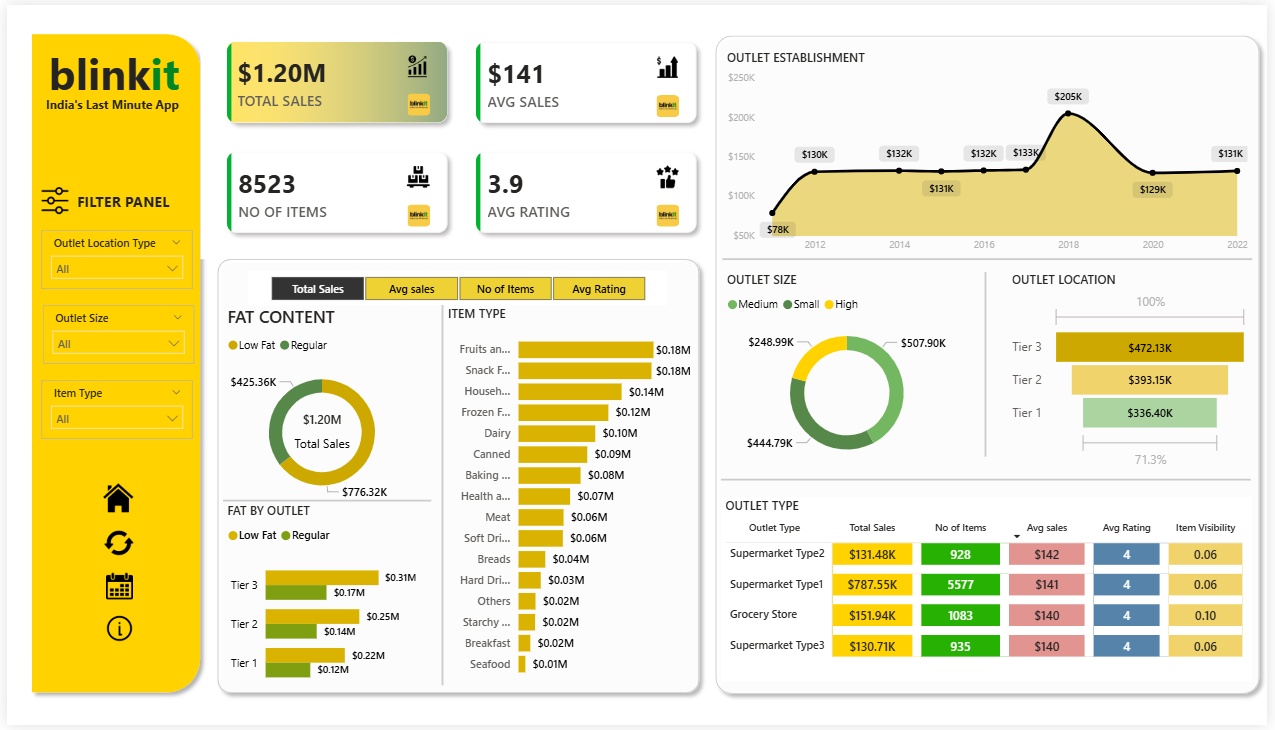

The dashboard page shown, as its layout file describes it:
{"tool":"powerbi","page":{"name":"Page 1","canvas":[1400,800],"ordinal":0},"visuals":[{"type":"shape","box":[17.5,23.9,205.3,749.6],"z":0},{"type":"textbox","box":[31.8,37.1,175,88.4],"z":1000},{"type":"textbox","box":[38.9,95.4,167.9,30],"z":2000},{"type":"cardVisual","fields":{"Data":["BlinkIT Grocery Data.Total Sales","BlinkIT Grocery Data.Avg sales","BlinkIT Grocery Data.No of Items","BlinkIT Grocery Data.Avg Rating"]},"box":[215.6,12.4,580,270.4],"z":3000},{"type":"shape","box":[224.5,273.9,553.2,500.2],"z":4000},{"type":"donutChart","title":"FAT CONTENT","fields":{"Y":["BlinkIT Grocery Data.Total Sales"],"Category":["BlinkIT Grocery Data.Item Fat Content"]},"box":[240.4,334,219.2,229.8],"z":5000},{"type":"slicer","fields":{"Values":["Metrics.Metrics"]},"box":[268.6,295.1,464.8,38.9],"z":6000},{"type":"clusteredBarChart","title":"FAT BY OUTLET","fields":{"Y":["BlinkIT Grocery Data.Total Sales"],"Category":["BlinkIT Grocery Data.Outlet Location Type"],"Series":["BlinkIT Grocery Data.Item Fat Content"]},"box":[240.4,551.4,219.2,219.2],"z":7000},{"type":"shape","box":[240.4,539,231.5,24.7],"z":8000},{"type":"shape","box":[459.5,334,47.7,422.4],"z":9000},{"type":"barChart","title":"ITEM TYPE","fields":{"Y":["BlinkIT Grocery Data.Total Sales"],"Category":["BlinkIT Grocery Data.Item Type"]},"box":[484.3,334,279.2,422.4],"z":10000},{"type":"shape","box":[777.6,24.7,622.1,749.4],"z":11000},{"type":"lineChart","title":"OUTLET ESTABLISHMENT","fields":{"Category":["BlinkIT Grocery Data.Outlet Establishment Year"],"Y":["BlinkIT Grocery Data.Total Sales"]},"box":[795.3,47.7,588.5,235.1],"z":12000},{"type":"shape","box":[793.5,514.3,588.5,24.7],"z":13000},{"type":"donutChart","title":"OUTLET SIZE","fields":{"Y":["BlinkIT Grocery Data.Total Sales"],"Category":["BlinkIT Grocery Data.Outlet Size"]},"box":[795.3,295.1,275.7,225],"z":14000},{"type":"shape","box":[1063.9,296.9,47.7,205],"z":15000},{"type":"funnel","title":"OUTLET LOCATION","fields":{"Y":["BlinkIT Grocery Data.Total Sales"],"Category":["BlinkIT Grocery Data.Outlet Location Type"]},"box":[1111.7,295.1,272.2,224.5],"z":16000},{"type":"shape","box":[795.3,270.4,588.5,24.7],"z":17000},{"type":"pivotTable","title":"OUTLET TYPE","fields":{"Rows":["BlinkIT Grocery Data.Outlet Type"],"Values":["BlinkIT Grocery Data.Total Sales","BlinkIT Grocery Data.No of Items","BlinkIT Grocery Data.Avg sales","BlinkIT Grocery Data.Avg Rating","Avg(BlinkIT Grocery Data.Item Visibility)"]},"box":[793.5,546.1,590.3,205],"z":18000},{"type":"slicer","fields":{"Values":["BlinkIT Grocery Data.Outlet Location Type"]},"box":[38.9,249.2,167.9,65.4],"z":19000},{"type":"slicer","fields":{"Values":["BlinkIT Grocery Data.Outlet Size"]},"box":[40.6,334,167.9,65.4],"z":20000},{"type":"slicer","fields":{"Values":["BlinkIT Grocery Data.Item Type"]},"box":[38.9,417.1,167.9,65.4],"z":21000},{"type":"card","fields":{"Values":["BlinkIT Grocery Data.Total Sales"]},"box":[307.5,441.8,83.1,60.1],"z":22000},{"type":"image","box":[104.3,532,37.1,31.8],"z":23000},{"type":"image","box":[107.8,577.9,31.8,38.9],"z":24000},{"type":"image","box":[109.6,629.2,30,31.8],"z":25000},{"type":"image","box":[107.8,673.4,33.6,38.9],"z":26000},{"type":"textbox","box":[68.9,201.5,121.9,31.8],"z":26001},{"type":"image","box":[38.9,201.5,30,31.8],"z":26002},{"type":"image","box":[443.6,99,28.3,24.7],"z":26003},{"type":"image","box":[443.6,220.9,28.3,24.7],"z":26004},{"type":"image","box":[719.3,220.9,28.3,24.7],"z":26005},{"type":"image","box":[719.3,100.7,28.3,24.7],"z":26006}]}

Visuals, with their boxes in screenshot pixels (x1, y1, x2, y2), scaled from the page's 1400x800 canvas onto the 1275x730 screenshot:
shape: [x1=16, y1=22, x2=203, y2=706]
textbox: [x1=29, y1=34, x2=188, y2=115]
textbox: [x1=35, y1=87, x2=188, y2=114]
cardVisual - BlinkIT Grocery Data.Total Sales x BlinkIT Grocery Data.Avg sales: [x1=196, y1=11, x2=725, y2=258]
shape: [x1=204, y1=250, x2=708, y2=706]
"FAT CONTENT" donutChart: [x1=219, y1=305, x2=419, y2=514]
slicer - Metrics.Metrics: [x1=245, y1=269, x2=668, y2=305]
"FAT BY OUTLET" clusteredBarChart: [x1=219, y1=503, x2=419, y2=703]
shape: [x1=219, y1=492, x2=430, y2=514]
shape: [x1=418, y1=305, x2=462, y2=690]
"ITEM TYPE" barChart: [x1=441, y1=305, x2=695, y2=690]
shape: [x1=708, y1=23, x2=1274, y2=706]
"OUTLET ESTABLISHMENT" lineChart: [x1=724, y1=44, x2=1260, y2=258]
shape: [x1=723, y1=469, x2=1259, y2=492]
"OUTLET SIZE" donutChart: [x1=724, y1=269, x2=975, y2=475]
shape: [x1=969, y1=271, x2=1012, y2=458]
"OUTLET LOCATION" funnel: [x1=1012, y1=269, x2=1260, y2=474]
shape: [x1=724, y1=247, x2=1260, y2=269]
"OUTLET TYPE" pivotTable: [x1=723, y1=498, x2=1260, y2=685]
slicer - BlinkIT Grocery Data.Outlet Location Type: [x1=35, y1=227, x2=188, y2=287]
slicer - BlinkIT Grocery Data.Outlet Size: [x1=37, y1=305, x2=190, y2=364]
slicer - BlinkIT Grocery Data.Item Type: [x1=35, y1=381, x2=188, y2=440]
card - BlinkIT Grocery Data.Total Sales: [x1=280, y1=403, x2=356, y2=458]
image: [x1=95, y1=485, x2=129, y2=514]
image: [x1=98, y1=527, x2=127, y2=563]
image: [x1=100, y1=574, x2=127, y2=603]
image: [x1=98, y1=614, x2=129, y2=650]
textbox: [x1=63, y1=184, x2=174, y2=213]
image: [x1=35, y1=184, x2=63, y2=213]
image: [x1=404, y1=90, x2=430, y2=113]
image: [x1=404, y1=202, x2=430, y2=224]
image: [x1=655, y1=202, x2=681, y2=224]
image: [x1=655, y1=92, x2=681, y2=114]
